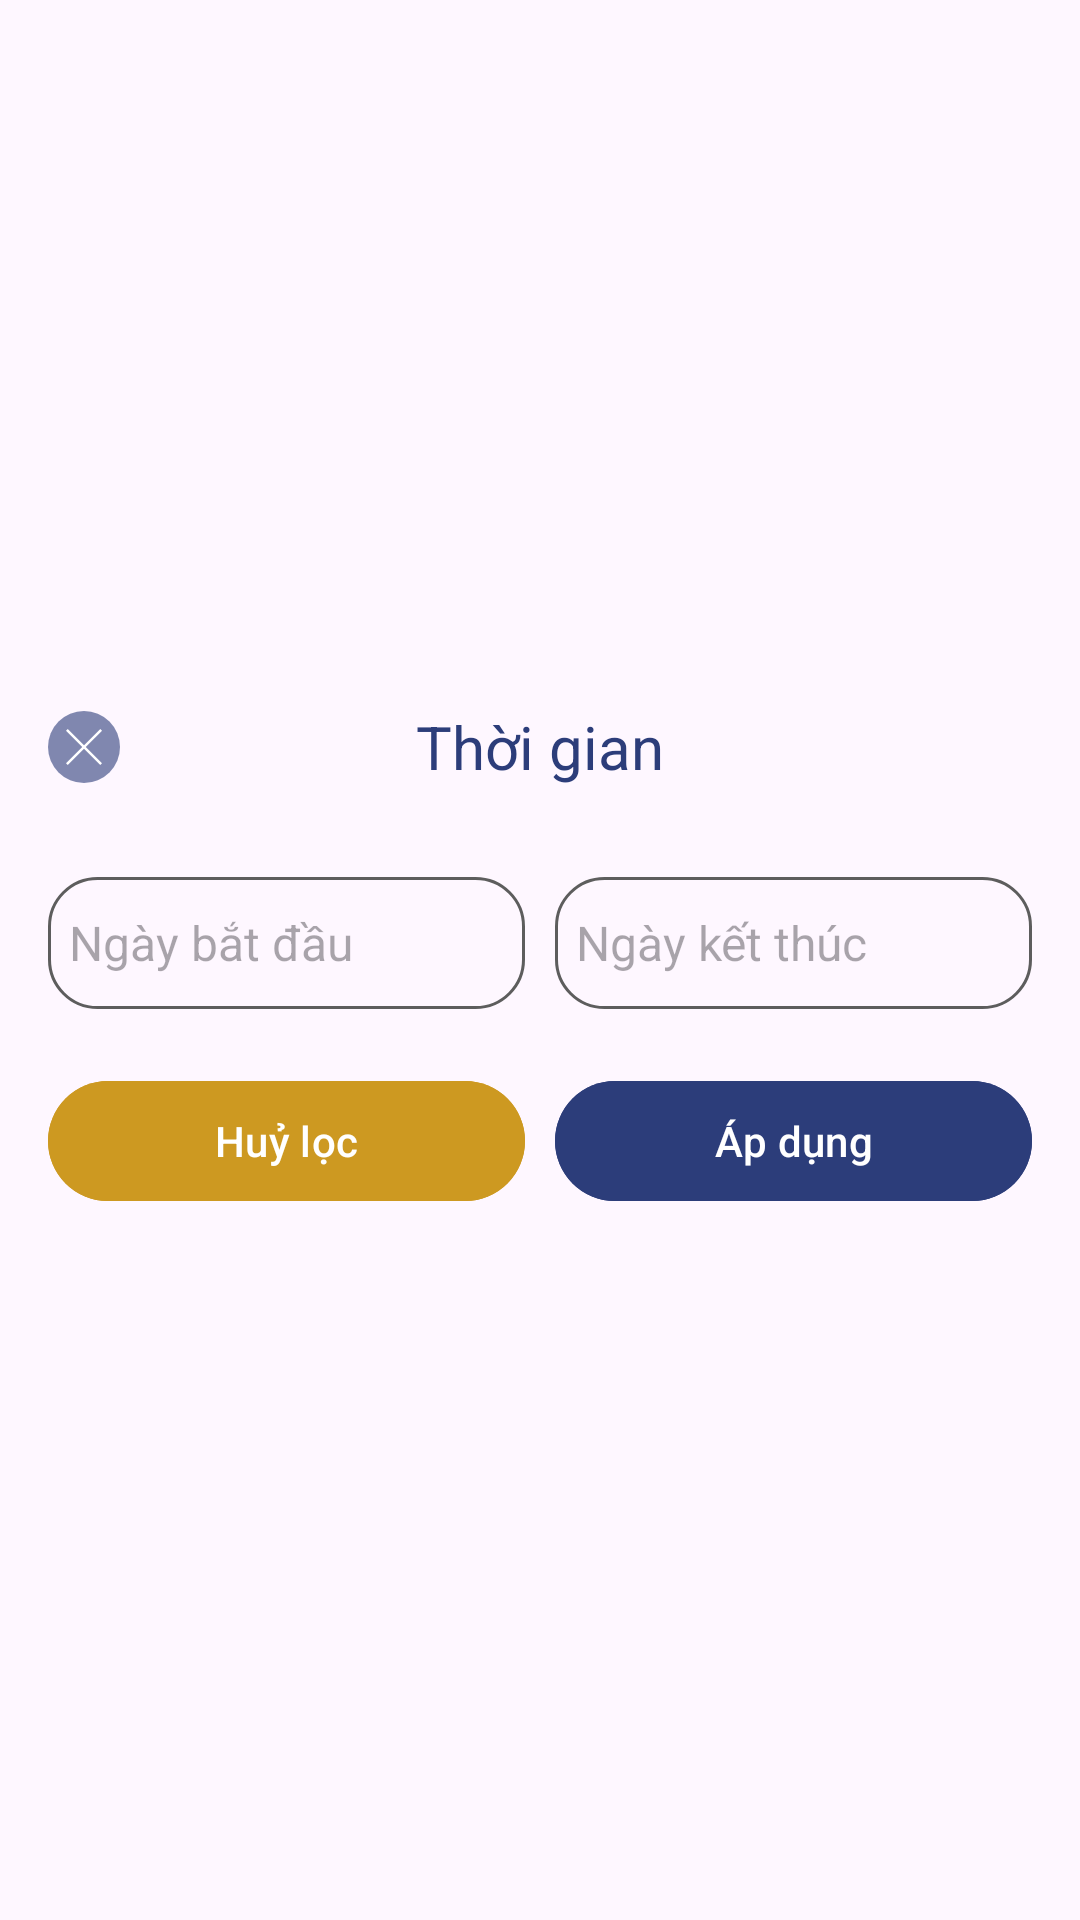

Named icons in this screenshot (1080px×1920px) and their bounding boxes, (x1, y1, x2, y2):
close: (48, 711, 120, 783)
